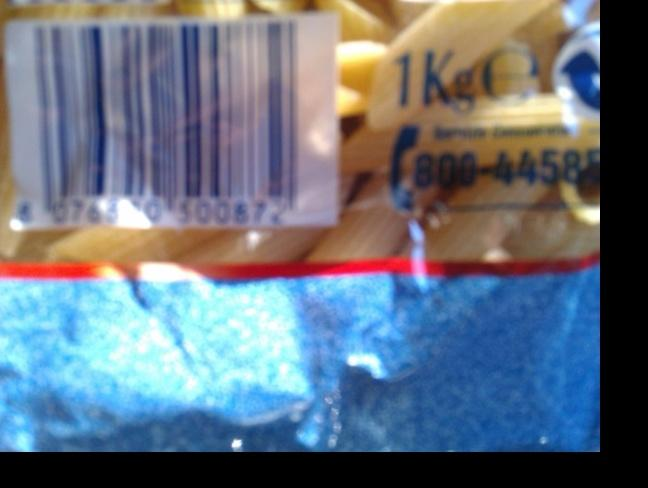Barcode: (13, 15, 310, 229)
